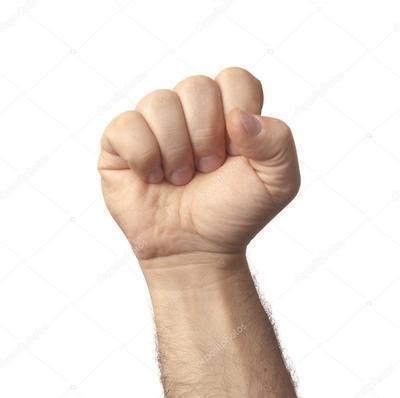closedhandfront: (83, 71, 303, 249)
